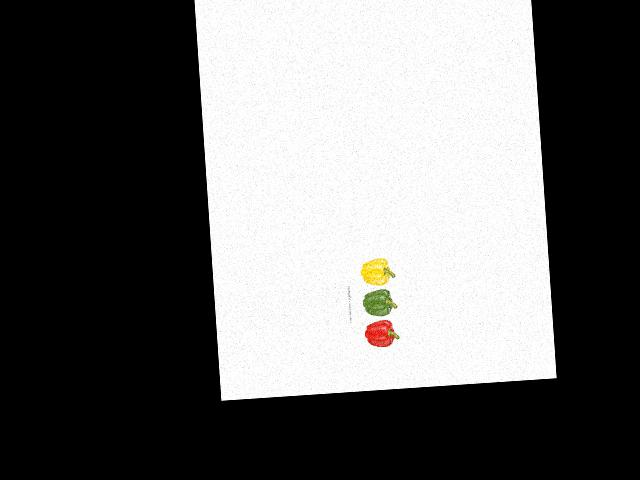bell_pepper: (356, 255, 395, 288)
